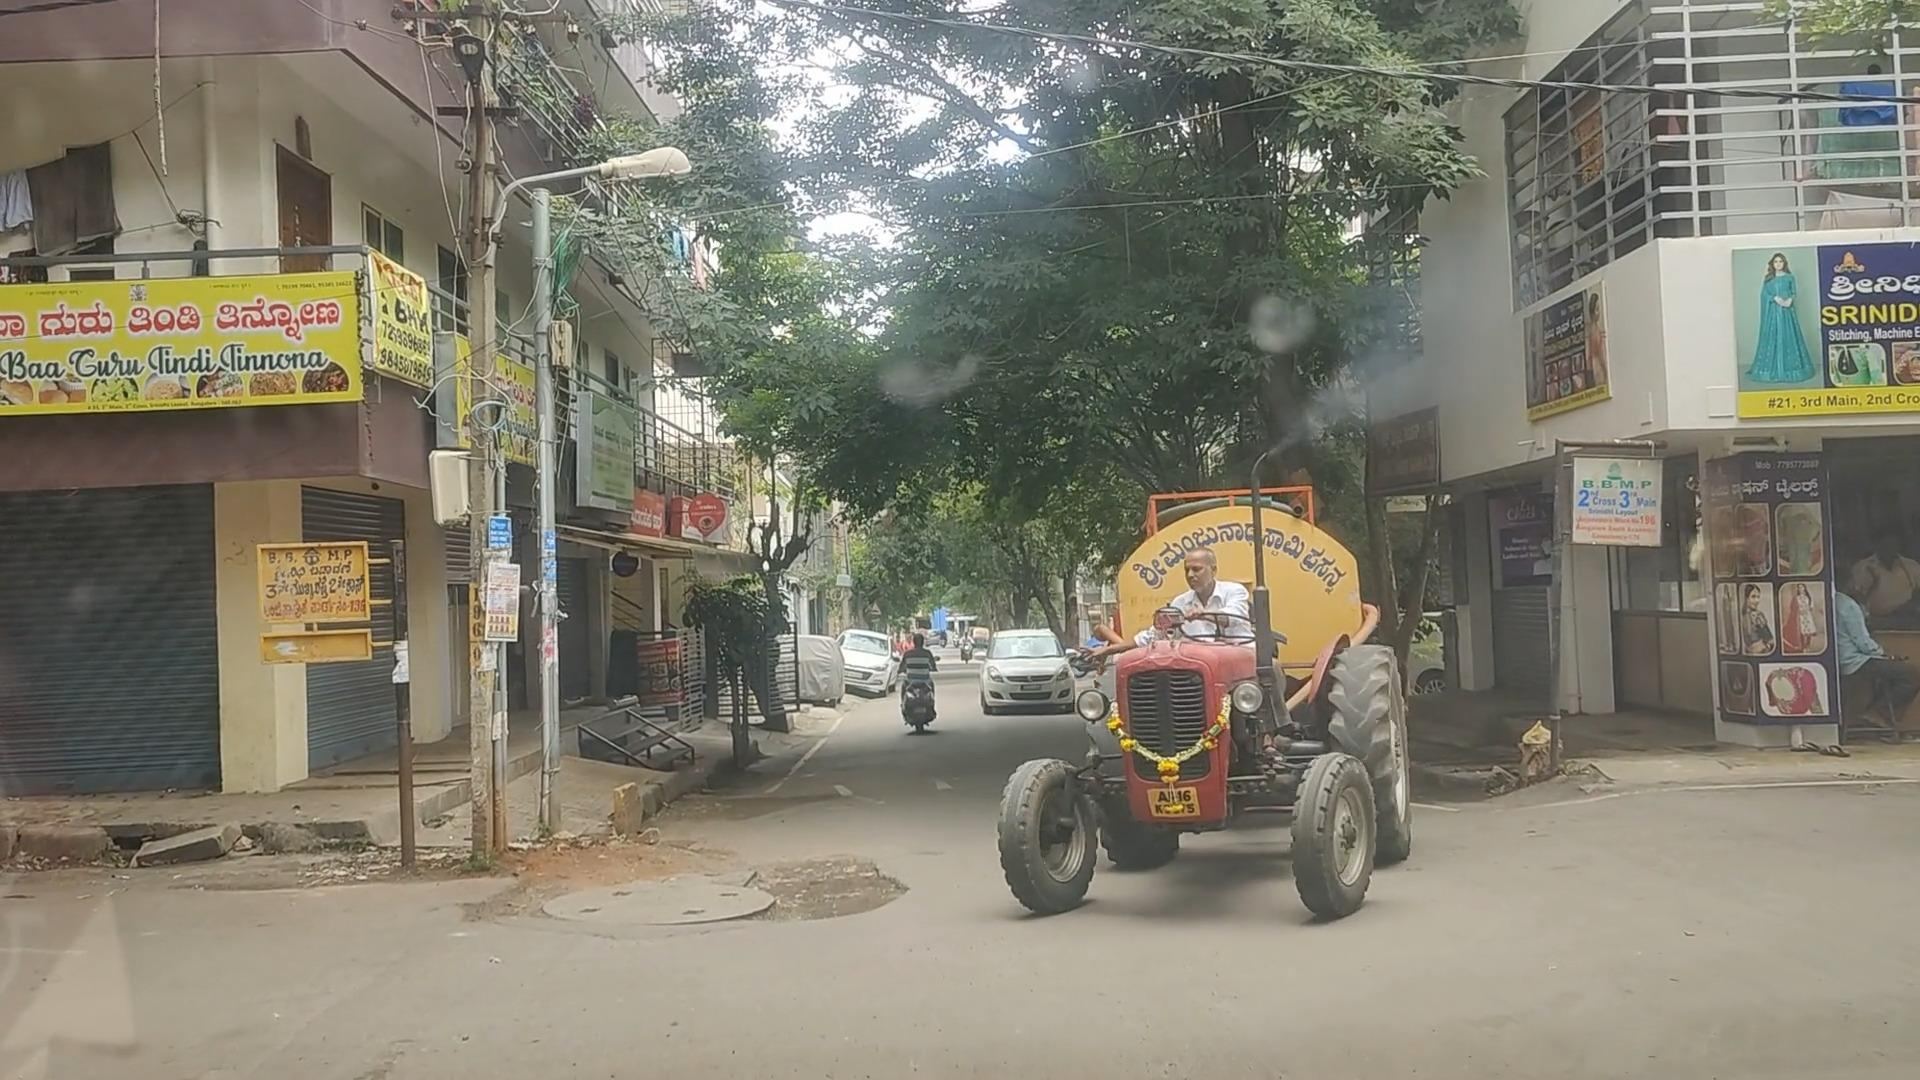HMV: (935, 430, 1439, 928)
RoadDamages: (480, 831, 931, 972)
